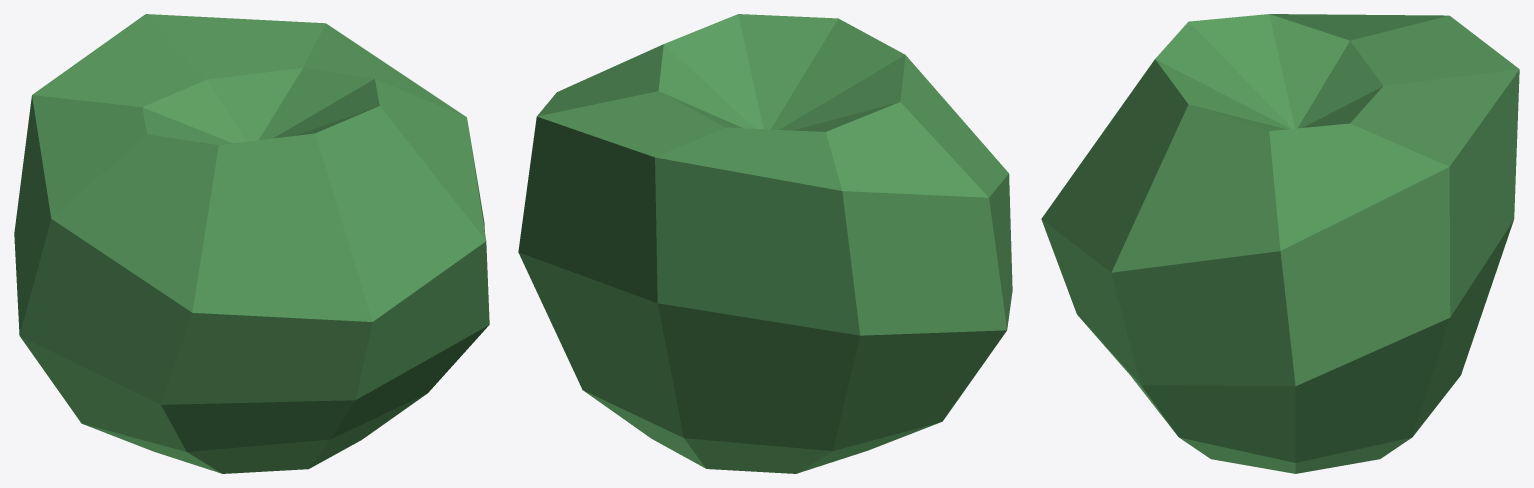
The model's file is arbusto 2.fbx.
3 views of the same model, side by side, from view 1: azimuth 30°, elevation 25°; view 2: azimuth 150°, elevation 25°; view 3: azimuth 270°, elevation 25° (orthographic). The views are drawn at different scales.
Visible parts, largest first — view 1: polySurface1; view 2: polySurface1; view 3: polySurface1.
Part boxes in pixels (left/top/right/bottom): polySurface1: left=14, top=14, right=489, bottom=473; polySurface1: left=518, top=14, right=1012, bottom=473; polySurface1: left=1041, top=14, right=1519, bottom=473.
Size of the model in its own units: 2.36 by 1.69 by 2.
